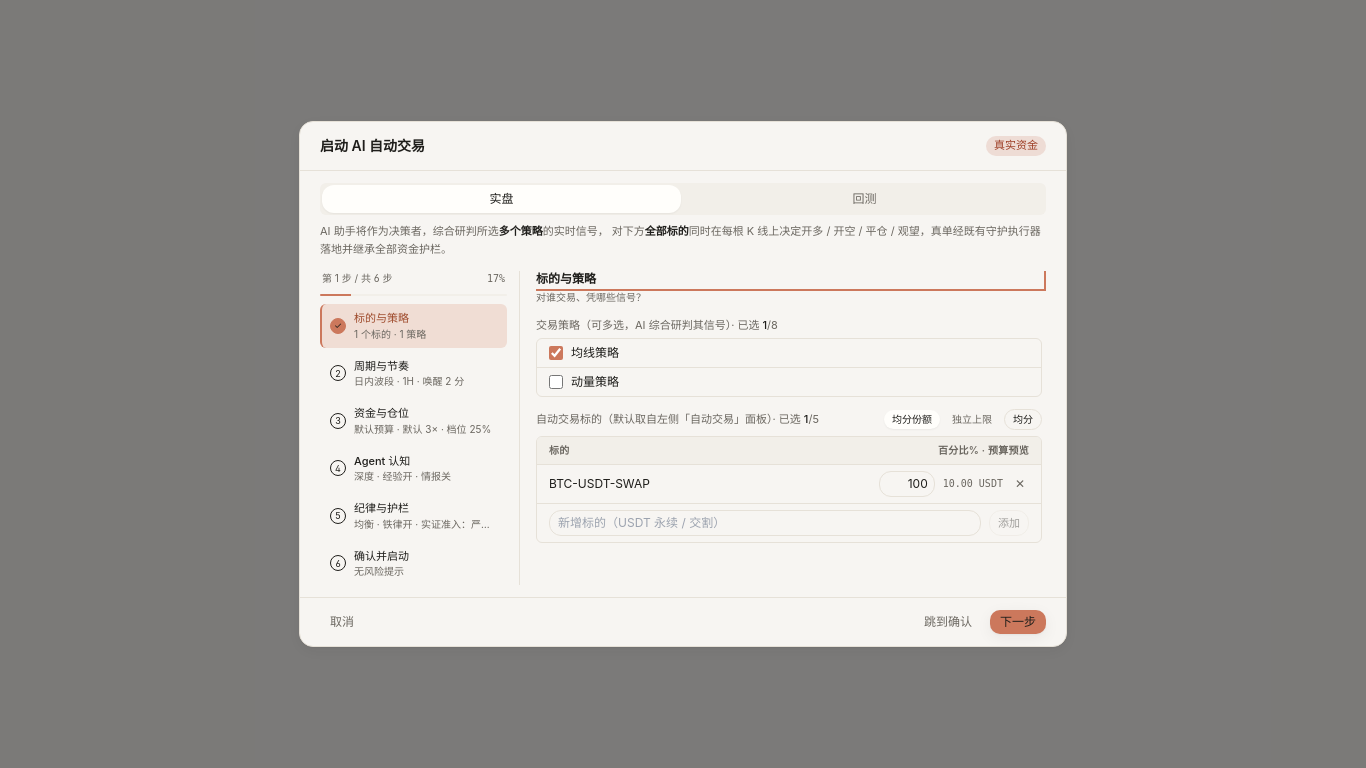
Test case: AiTradeLaunchModal › 不得宣称阈值「已校准」（[P1-10]：不得宣称不存在的东西）
Expected: the text "均线策略" is shown, [571,345,619,361]
Click the tab "纪律与护栏".
click(414, 516)  # box [320,494,507,538]
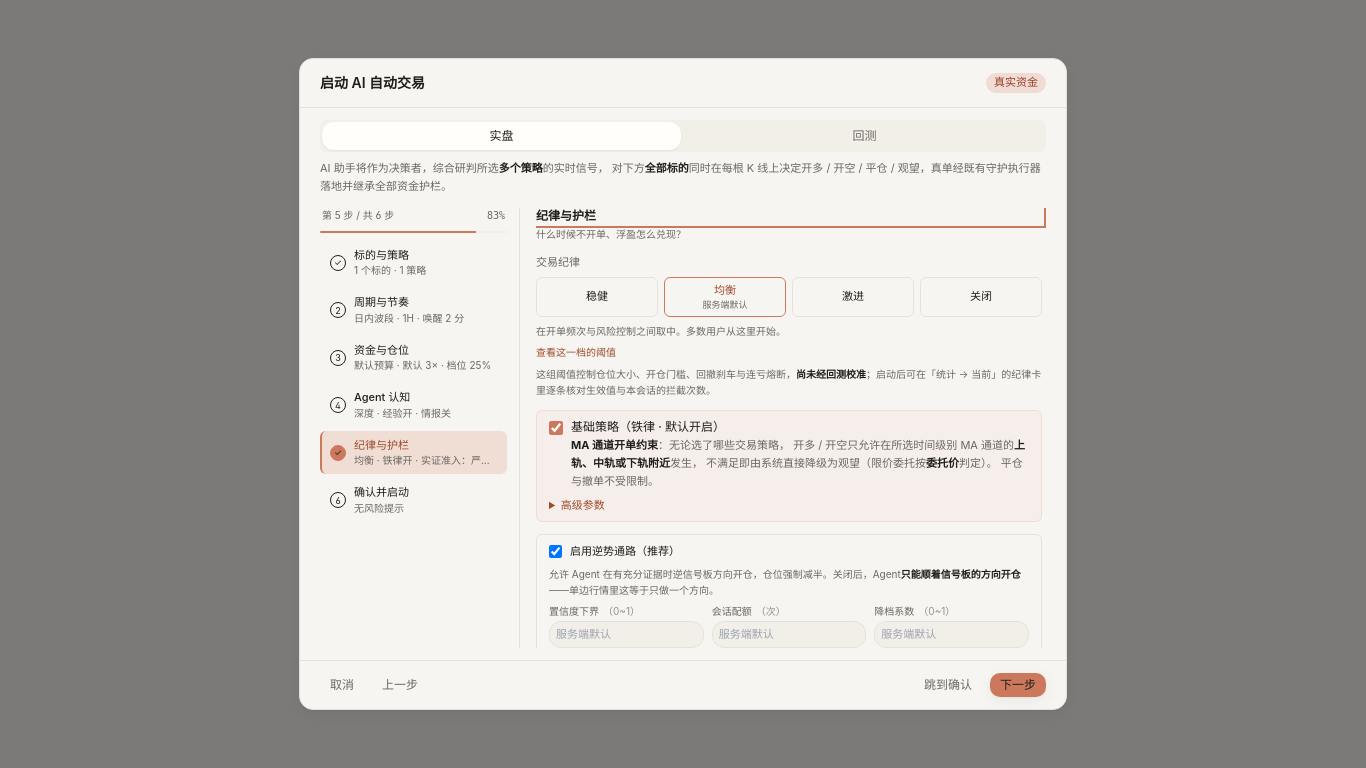
Result: the text "尚未经回测校准" is shown at [796,368,866,380]
